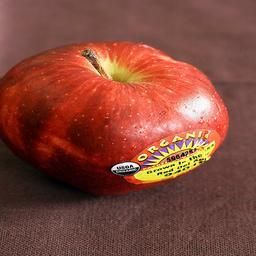apple: (0, 39, 232, 196)
